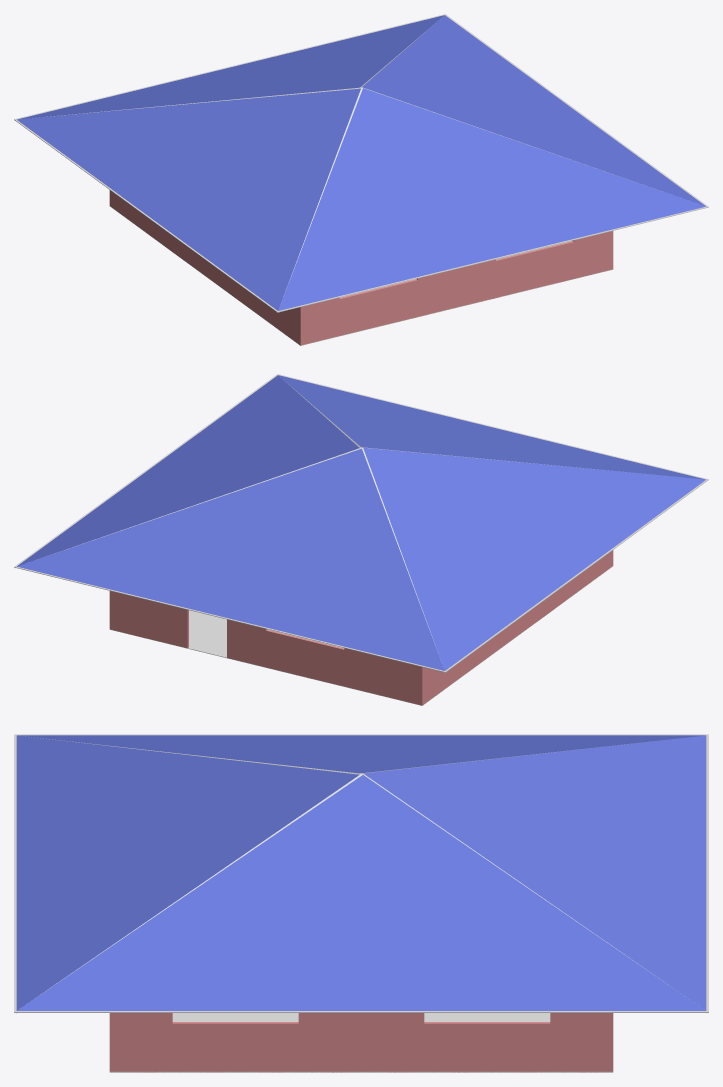
File: house.gltf
3 views of the same model, one above another, from view 1: azimuth 30°, elevation 25°; view 2: azimuth 150°, elevation 25°; view 3: azimuth 270°, elevation 25° (orthographic). The views are drawn at different scales.
Visible parts, largest first — view 1: Cube; view 2: Cube; view 3: Cube.
Part boxes in pixels (box(x1,y1,x2,y2)): Cube: box(14, 14, 708, 345); Cube: box(14, 374, 708, 705); Cube: box(14, 734, 708, 1072).
Bounding box in the file's own units: 61.5 × 20.42 × 65.06.
